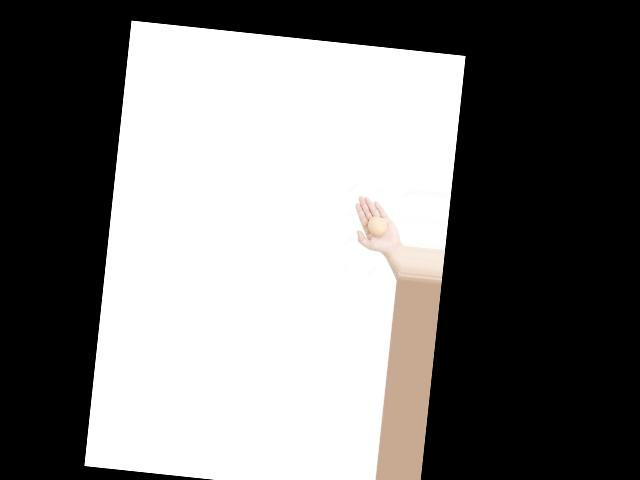egg: (367, 216, 388, 238)
